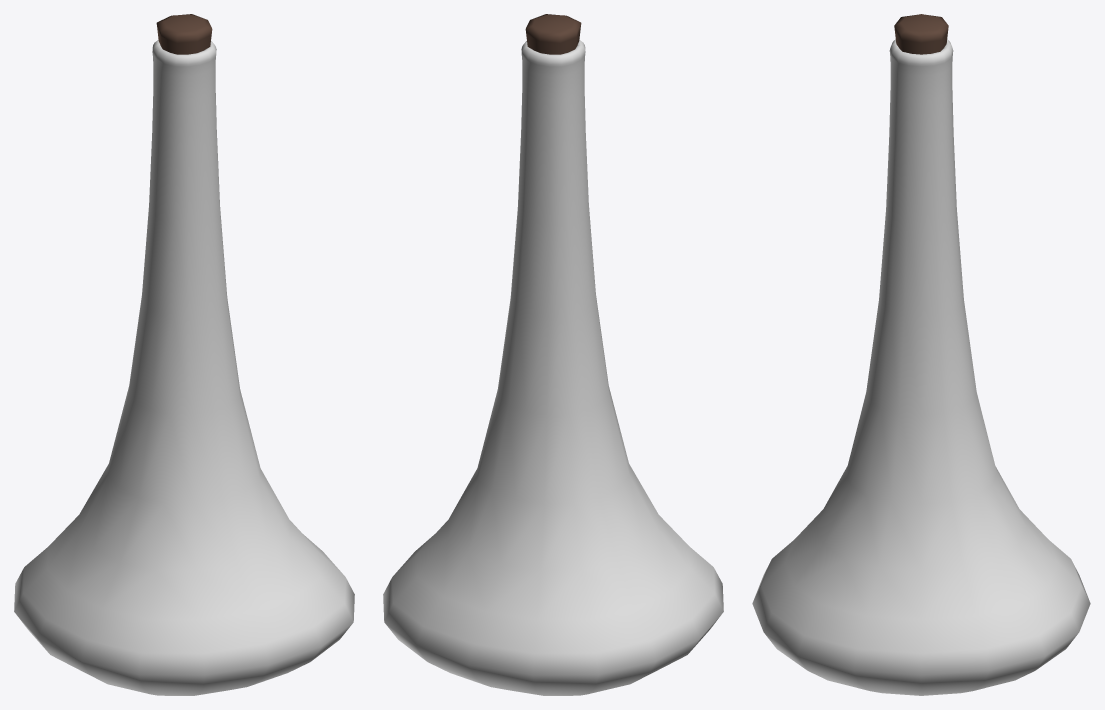
The model's file is potion7_empty.glb.
3 views of the same model, side by side, from view 1: azimuth 30°, elevation 25°; view 2: azimuth 150°, elevation 25°; view 3: azimuth 270°, elevation 25° (orthographic).
Parts seen in each view (by area): view 1: Potion7_Empty; view 2: Potion7_Empty; view 3: Potion7_Empty.
Part boxes in pixels (bbox=[...]): Potion7_Empty: bbox=[14, 14, 354, 695]; Potion7_Empty: bbox=[383, 14, 723, 695]; Potion7_Empty: bbox=[752, 14, 1090, 695].
Size of the model in its own units: 0.7035 by 1.51 by 0.7035.
